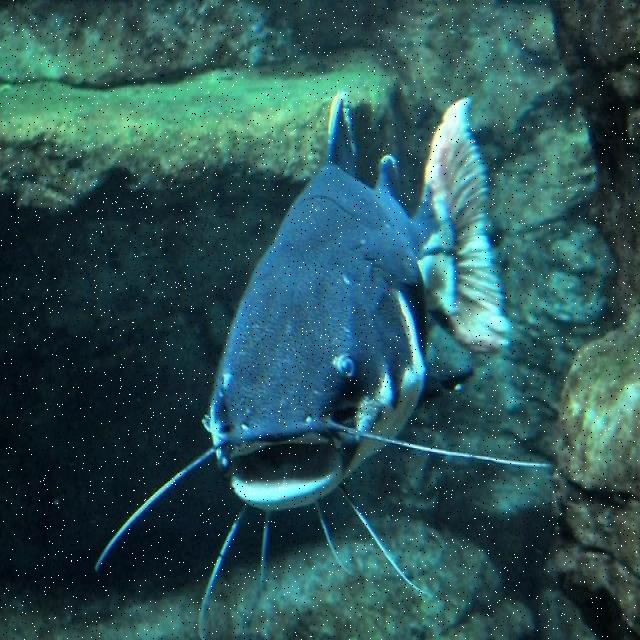fish: (95, 82, 514, 639)
